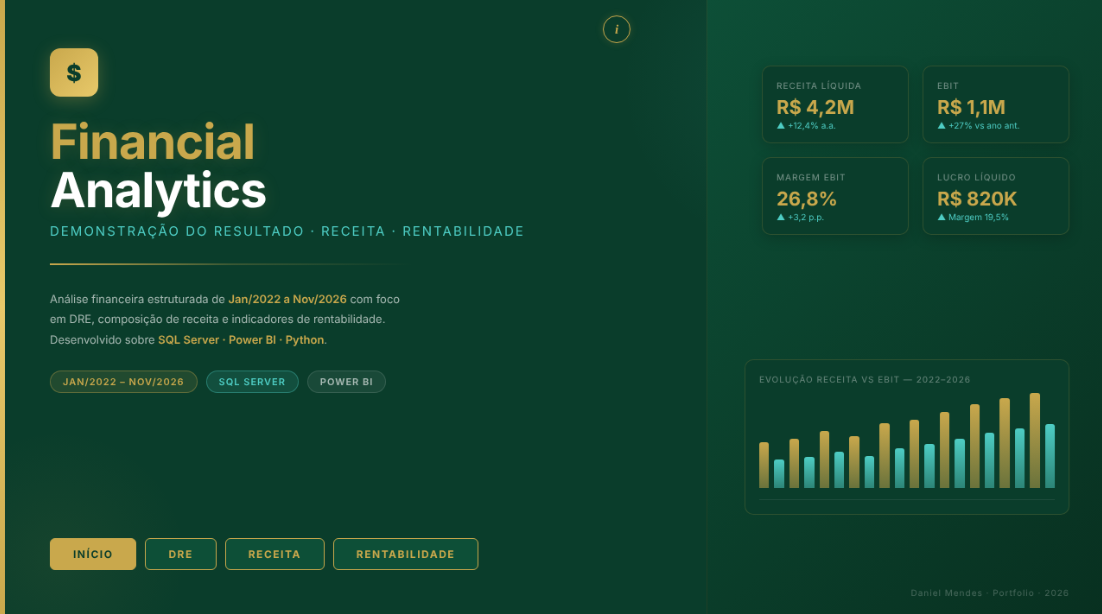

The page's visual inventory and layout, read from the dashboard file:
{"tool":"powerbi","page":{"name":"Início","canvas":[1920,1080],"ordinal":0},"visuals":[{"type":"actionButton","box":[94.7,942.7,140,43.2],"z":0},{"type":"actionButton","box":[259.3,942.7,113.2,43.2],"z":1000},{"type":"actionButton","box":[401.4,942.7,158.5,43.2],"z":2000},{"type":"actionButton","box":[588.7,942.7,234.6,43.2],"z":3000},{"type":"actionButton","box":[1051.8,28.8,45.3,49.4],"z":4000}]}

Visuals, with their boxes in screenshot pixels (x1, y1, x2, y2), scaled from the page's 1920x1080 canvas onto the 1102x614 screenshot:
actionButton: detection(54, 536, 135, 561)
actionButton: detection(149, 536, 214, 561)
actionButton: detection(230, 536, 321, 561)
actionButton: detection(338, 536, 473, 561)
actionButton: detection(604, 16, 630, 44)
